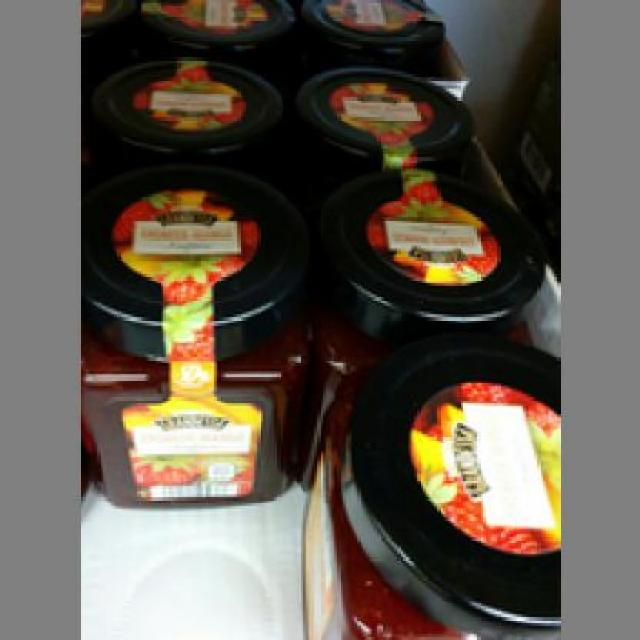Jam: (302, 332, 555, 638), (80, 168, 303, 508)
